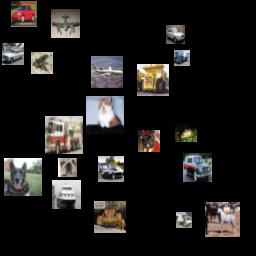airplane: (91, 56, 123, 88), (51, 9, 80, 38)
automobile: (183, 153, 212, 182), (98, 156, 124, 182), (11, 1, 37, 27), (2, 43, 24, 65), (166, 25, 185, 44), (174, 50, 190, 66)
cat: (86, 96, 124, 134)
dog: (4, 158, 42, 196), (138, 130, 160, 152), (58, 158, 77, 177)
frog: (94, 201, 126, 233), (31, 52, 53, 74), (175, 120, 197, 142)
ship: (52, 180, 81, 209)
truck: (45, 116, 83, 154), (137, 64, 169, 96), (176, 212, 192, 228)
